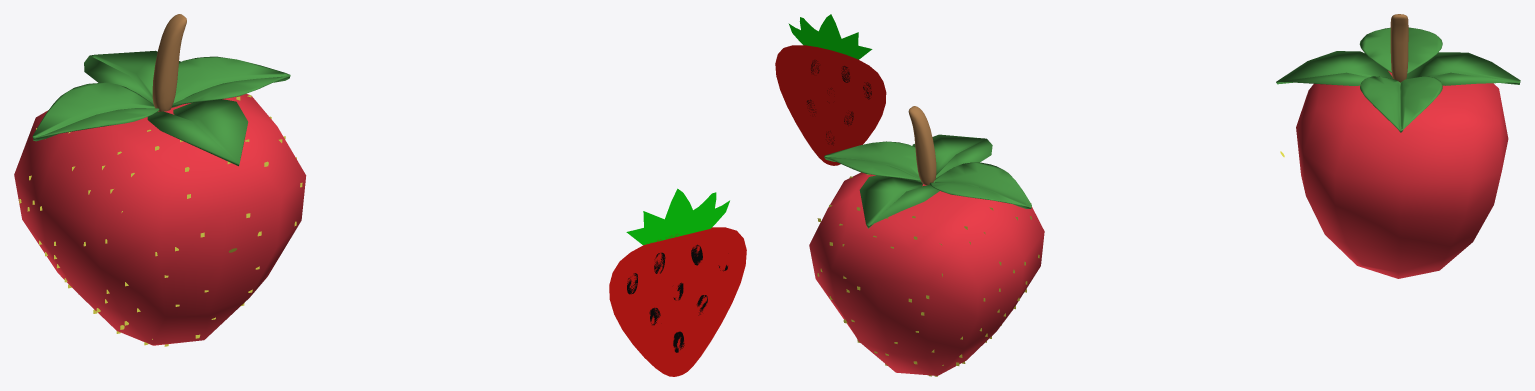
Rendered from Fresaa.fbx.
3 views of the same model, side by side, from view 1: azimuth 30°, elevation 25°; view 2: azimuth 150°, elevation 25°; view 3: azimuth 270°, elevation 25° (orthographic). The views are drawn at different scales.
Visible parts, largest first — view 1: Cube.001, Plane.003, Plane.001, Plane, Plane.004, Cube.002; view 2: Cube.001, Plane.003, Plane.001, Plane, Plane.004, Cube.002; view 3: Cube.001, Plane, Plane.001, Cube.002.
Boxes of the visible parts, left/top/right/bottom form: Cube.001: left=14, top=93, right=306, bottom=346; Plane.003: left=609, top=227, right=746, bottom=376; Plane.001: left=32, top=56, right=290, bottom=141; Plane: left=84, top=50, right=248, bottom=166; Plane.004: left=626, top=188, right=729, bottom=244; Cube.002: left=152, top=14, right=186, bottom=111; Cube.001: left=809, top=172, right=1044, bottom=376; Plane.003: left=775, top=45, right=886, bottom=165; Plane.001: left=824, top=141, right=1031, bottom=208; Plane: left=859, top=134, right=992, bottom=228; Plane.004: left=788, top=14, right=872, bottom=59; Cube.002: left=908, top=106, right=936, bottom=184; Cube.001: left=1296, top=71, right=1508, bottom=278; Plane: left=1276, top=51, right=1520, bottom=85; Plane.001: left=1359, top=27, right=1442, bottom=132; Cube.002: left=1390, top=14, right=1408, bottom=82.
Bounding box in the file's own units: 586 × 350 × 532.
